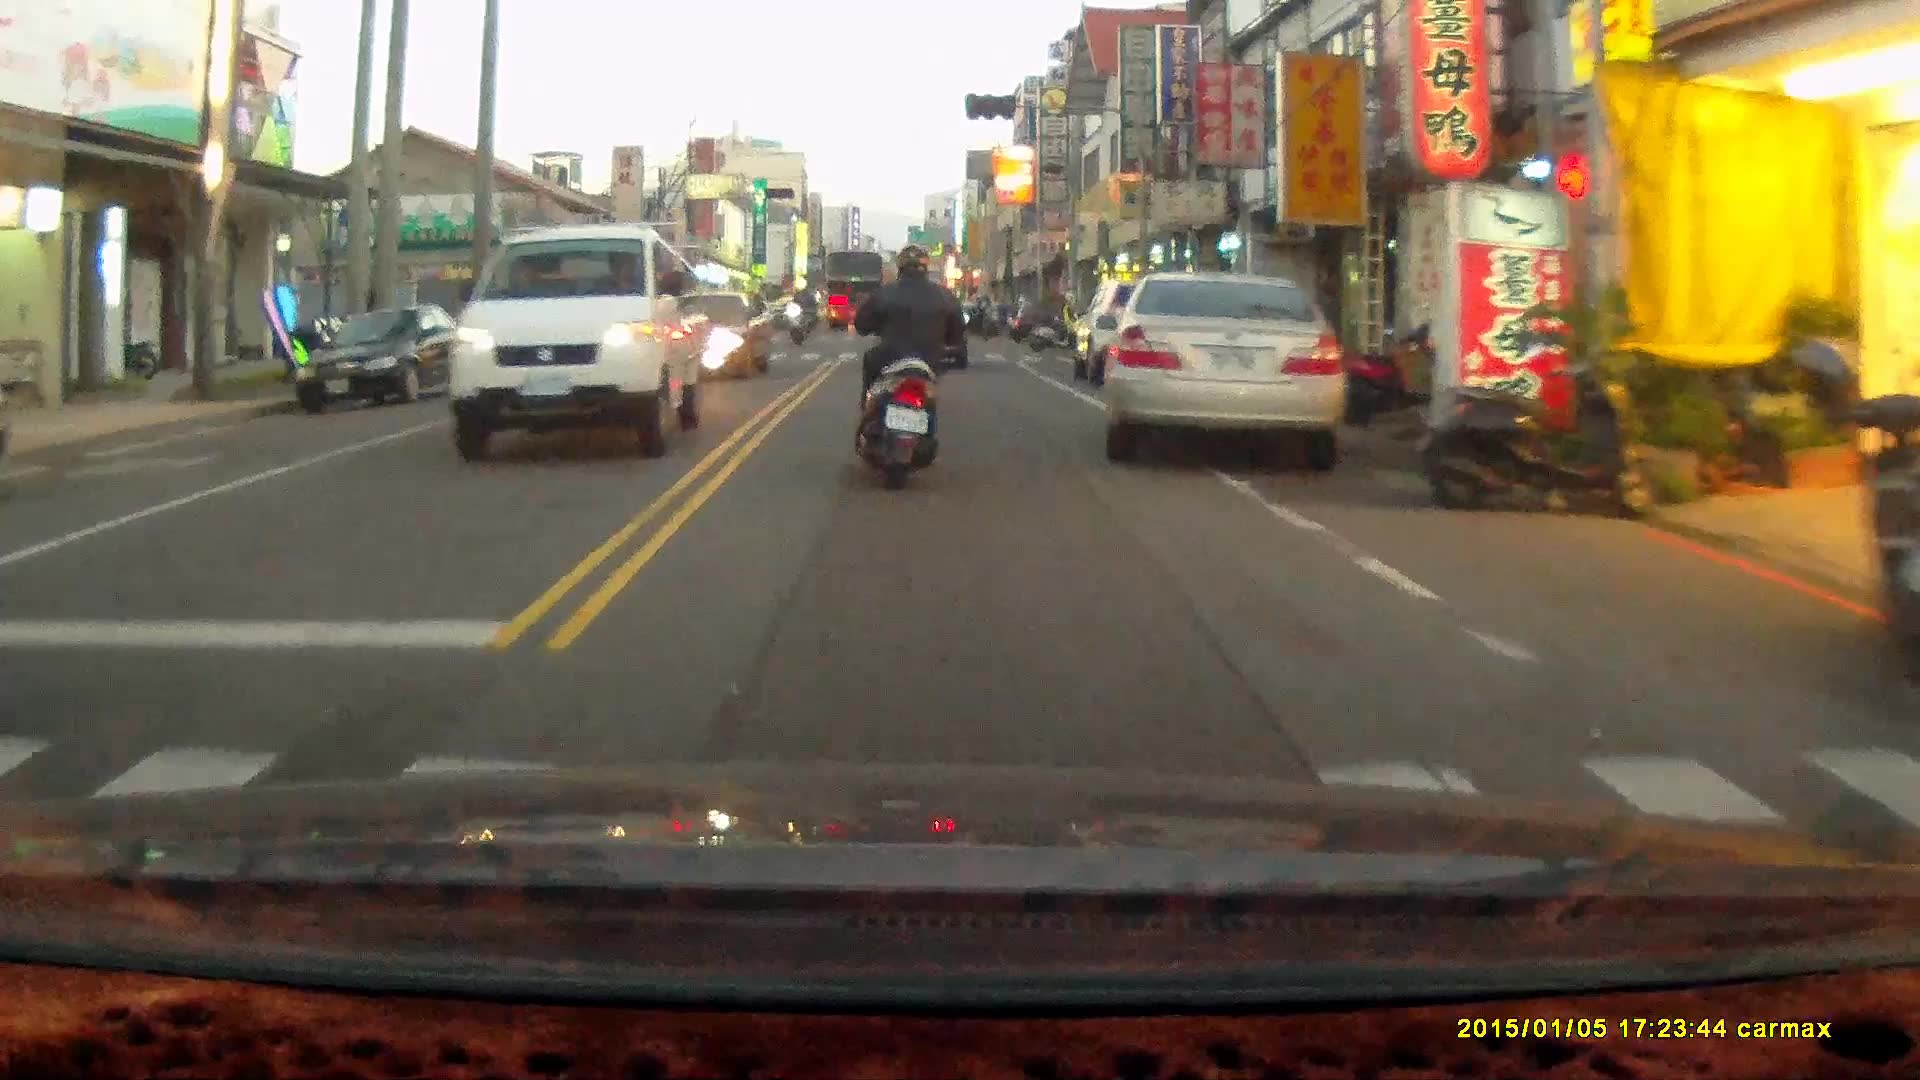pedestrian: (1058, 290, 1082, 360)
rider: (841, 243, 967, 493)
vehicle: (443, 230, 703, 467), (1098, 269, 1352, 466), (294, 308, 475, 412), (822, 251, 888, 334)
